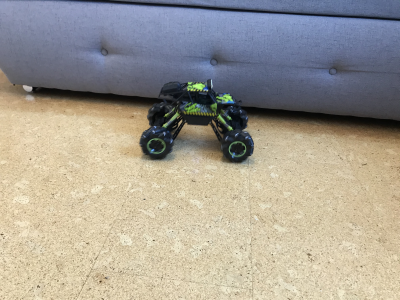remote control car: (136, 74, 255, 165)
